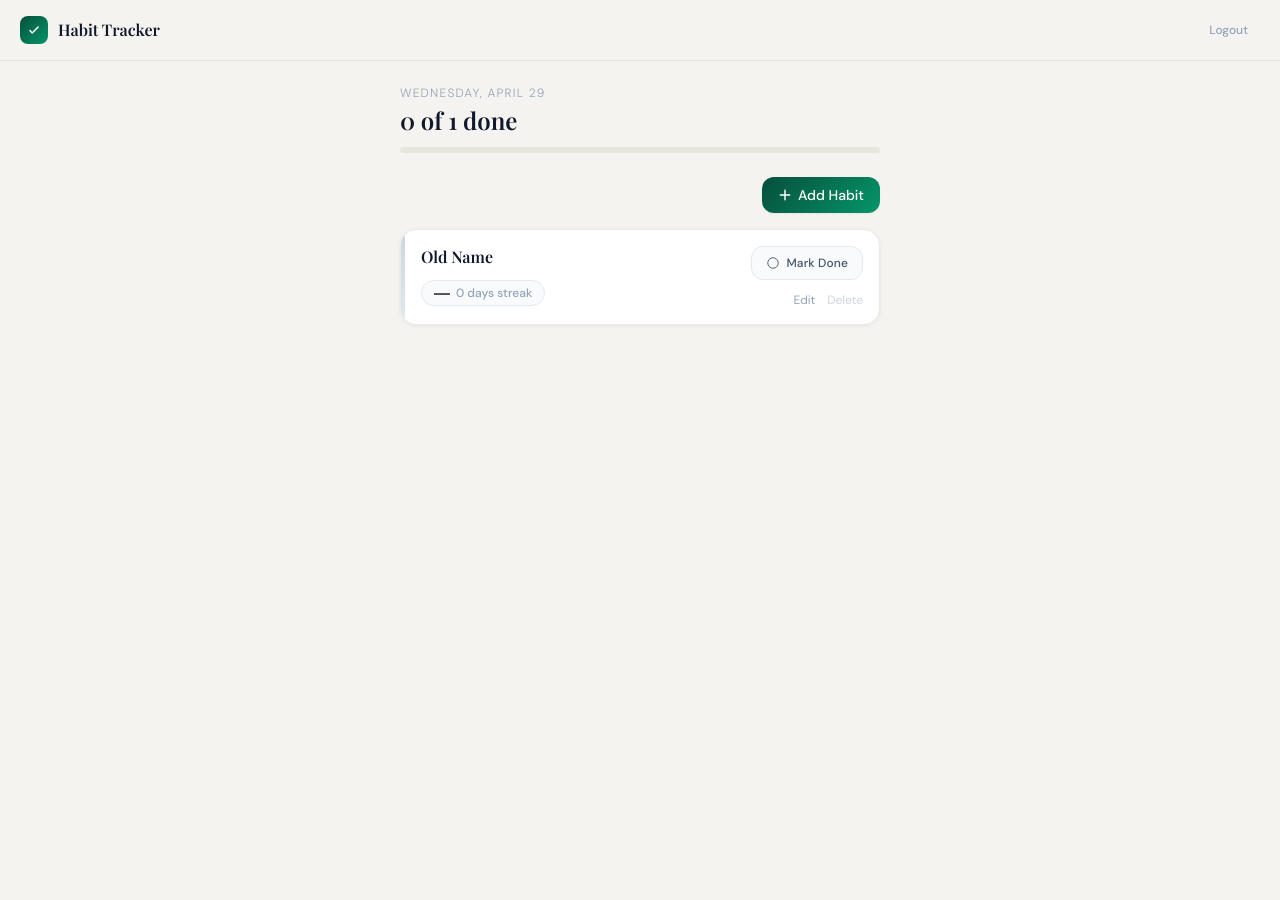
habit form › edits an existing habit and preserves immutable fields
Step 1. Click the button with test id "habit-edit-old-name" → (804, 300), box [793,292,815,308]
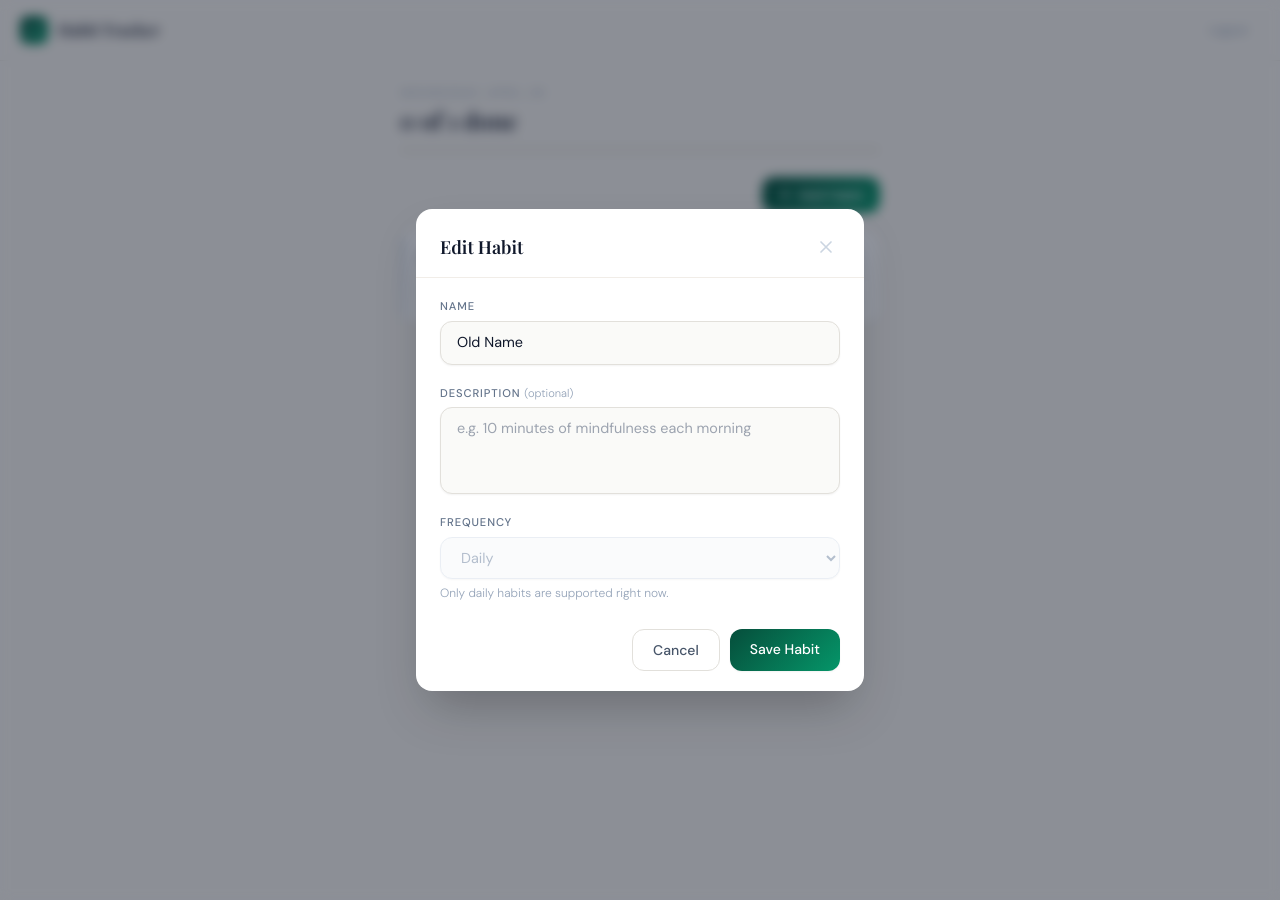
Step 2. Replace the text in the field with test id "habit-name-input" with "New Name" → (640, 343), box [440,321,840,364]
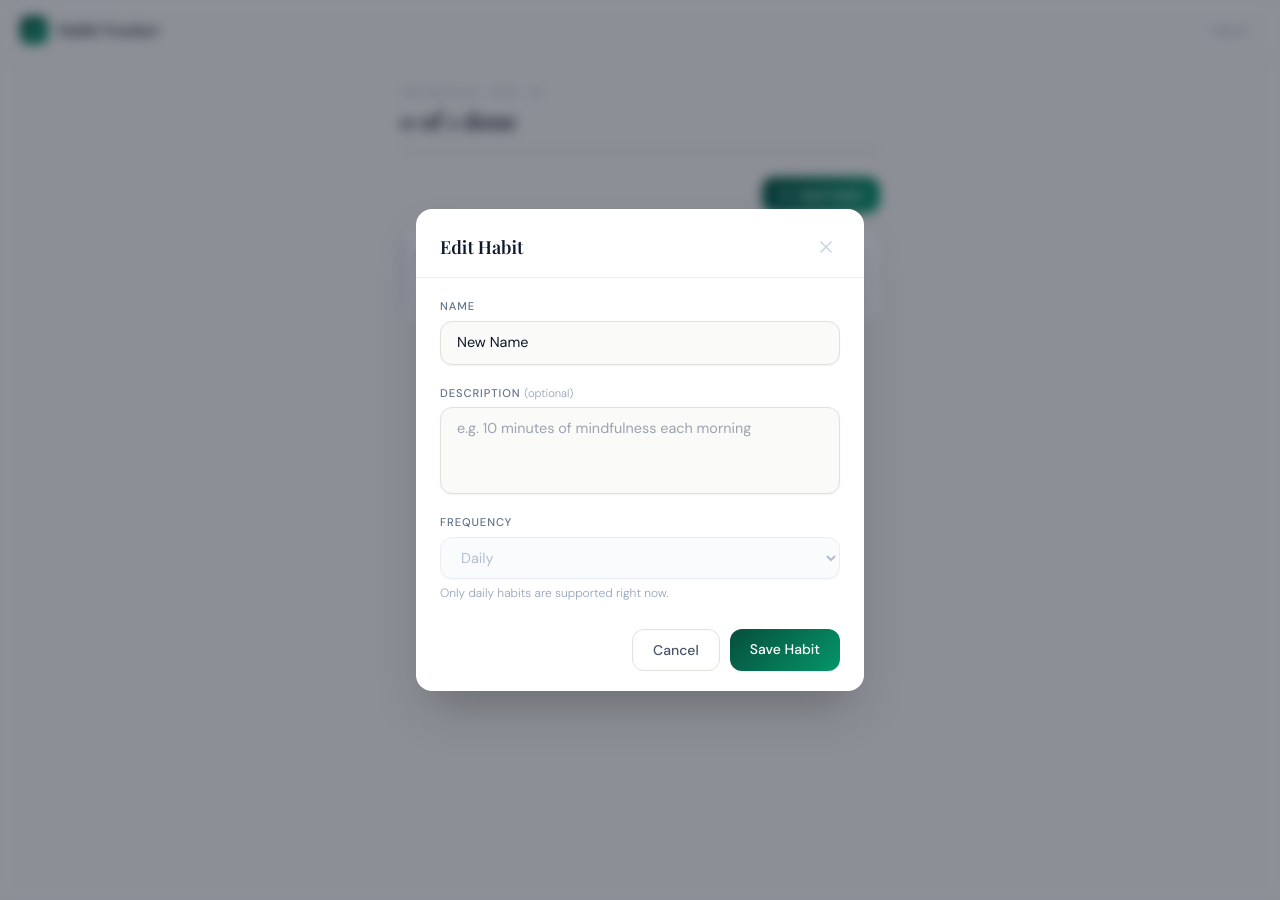
Step 3. Click the button with test id "habit-save-button" → (785, 650), box [730,629,840,671]
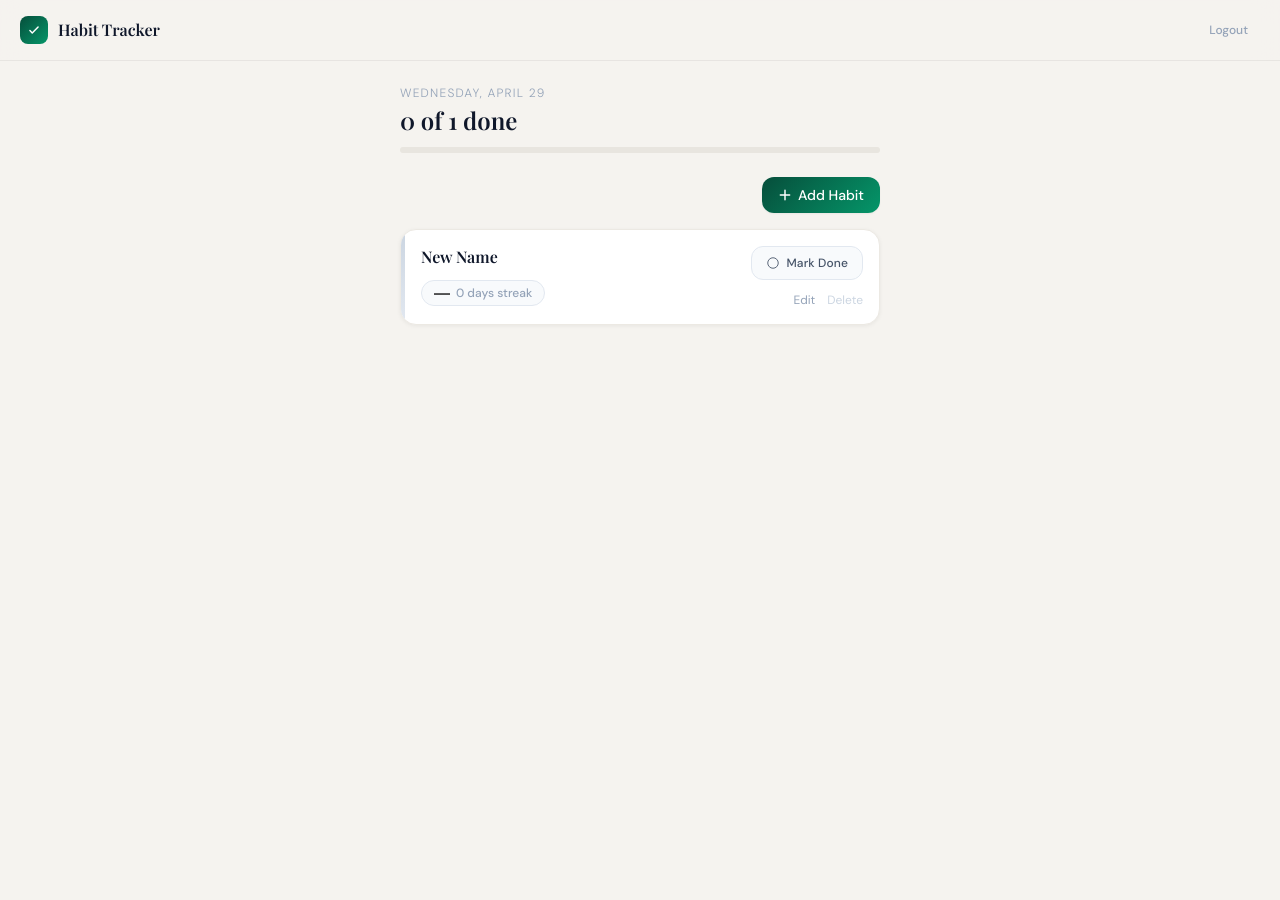
Expected: the element with test id "habit-card-new-name" is shown, [400,229,880,325]
